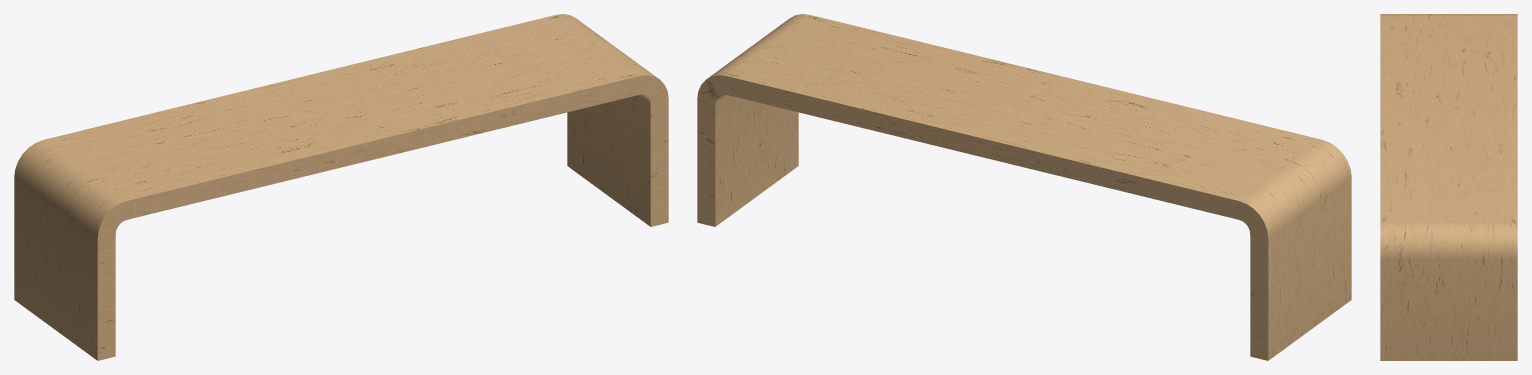
Rendered from simple_bench.glb.
3 views of the same model, side by side, from view 1: azimuth 30°, elevation 25°; view 2: azimuth 150°, elevation 25°; view 3: azimuth 270°, elevation 25° (orthographic). The views are drawn at different scales.
Parts seen in each view (by area): view 1: Bench; view 2: Bench; view 3: Bench.
Boxes of the visible parts, bbox=[...] form: Bench: bbox=[14, 14, 668, 360]; Bench: bbox=[697, 14, 1351, 360]; Bench: bbox=[1380, 14, 1517, 360].
Bounding box in the file's own units: 2.02 × 0.519 × 0.5111.
1 material, 1 textured.
